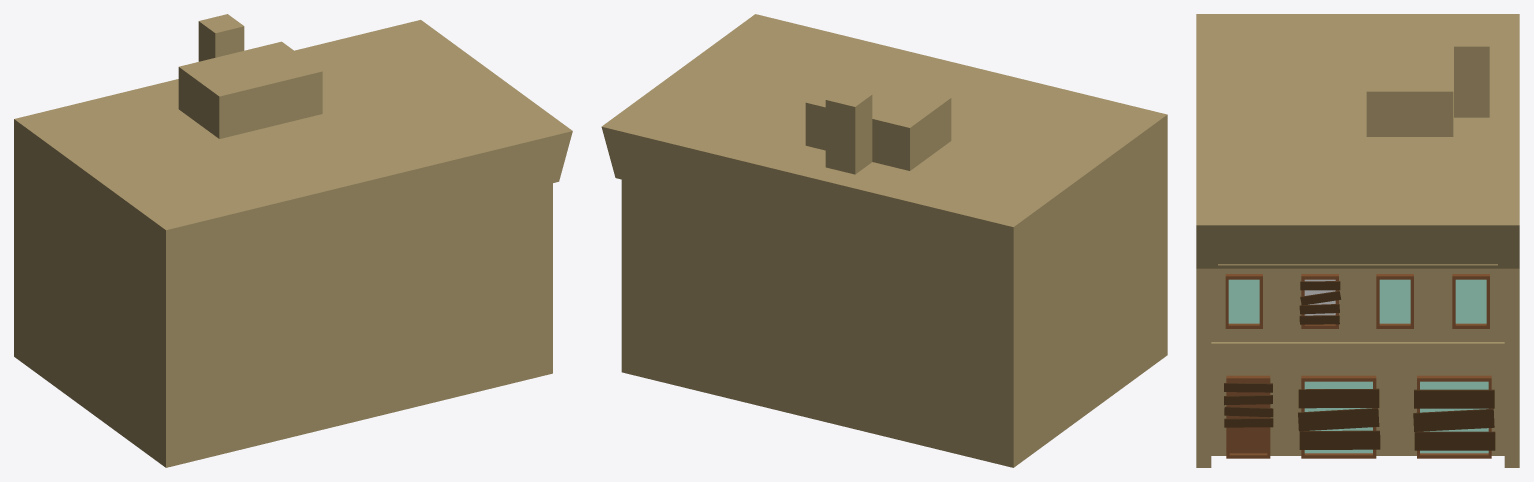
Rendered from generic_house.fbx.
3 views of the same model, side by side, from view 1: azimuth 30°, elevation 25°; view 2: azimuth 150°, elevation 25°; view 3: azimuth 270°, elevation 25° (orthographic). The views are drawn at different scales.
Visible parts, largest first — view 1: Cube.009; view 2: Cube.009; view 3: Cube.009.
Boxes of the visible parts, bbox=[...] form: Cube.009: bbox=[14, 14, 572, 467]; Cube.009: bbox=[601, 14, 1167, 467]; Cube.009: bbox=[1196, 14, 1519, 467].
Size of the model in its own units: 3545 by 2535 by 2294.
